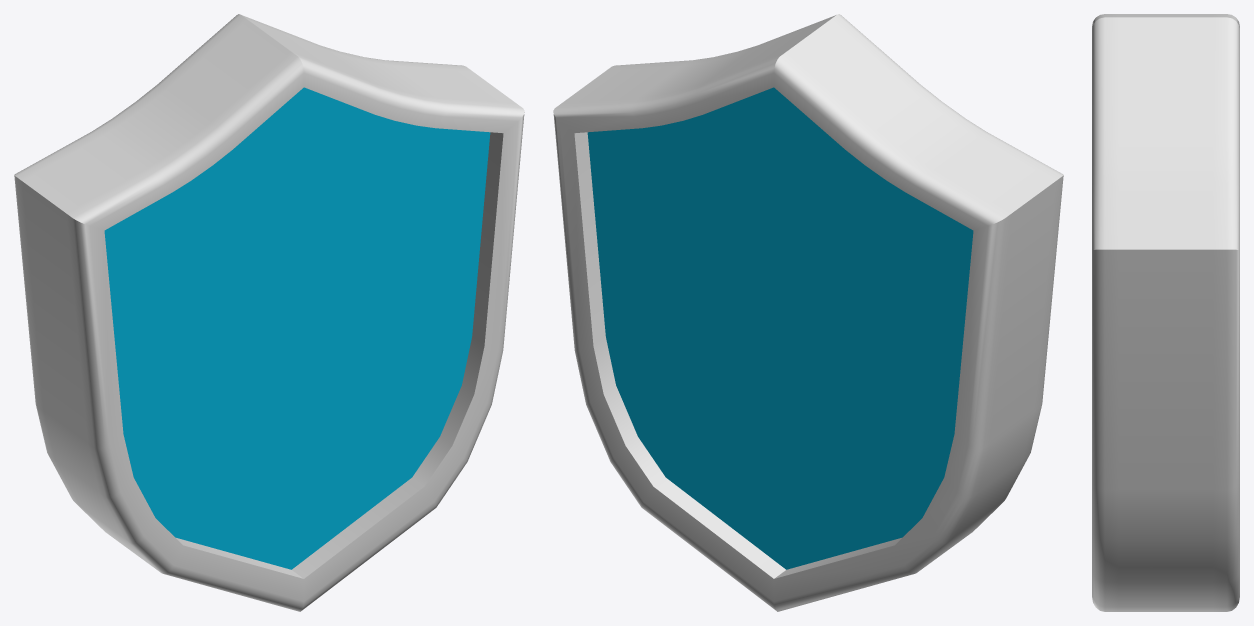
File: Shield.fbx
The picture shows the model from 3 angles, left to right: view 1: azimuth 30°, elevation 25°; view 2: azimuth 150°, elevation 25°; view 3: azimuth 270°, elevation 25°; orthographic projection. The views are drawn at different scales.
Parts seen in each view (by area): view 1: Shield; view 2: Shield; view 3: Shield.
Part boxes in pixels (<box>): Shield: <box>14,14,524,611</box>; Shield: <box>553,14,1063,611</box>; Shield: <box>1092,14,1239,611</box>.
Bounding box in the file's own units: 16.18 × 19.04 × 4.29.
